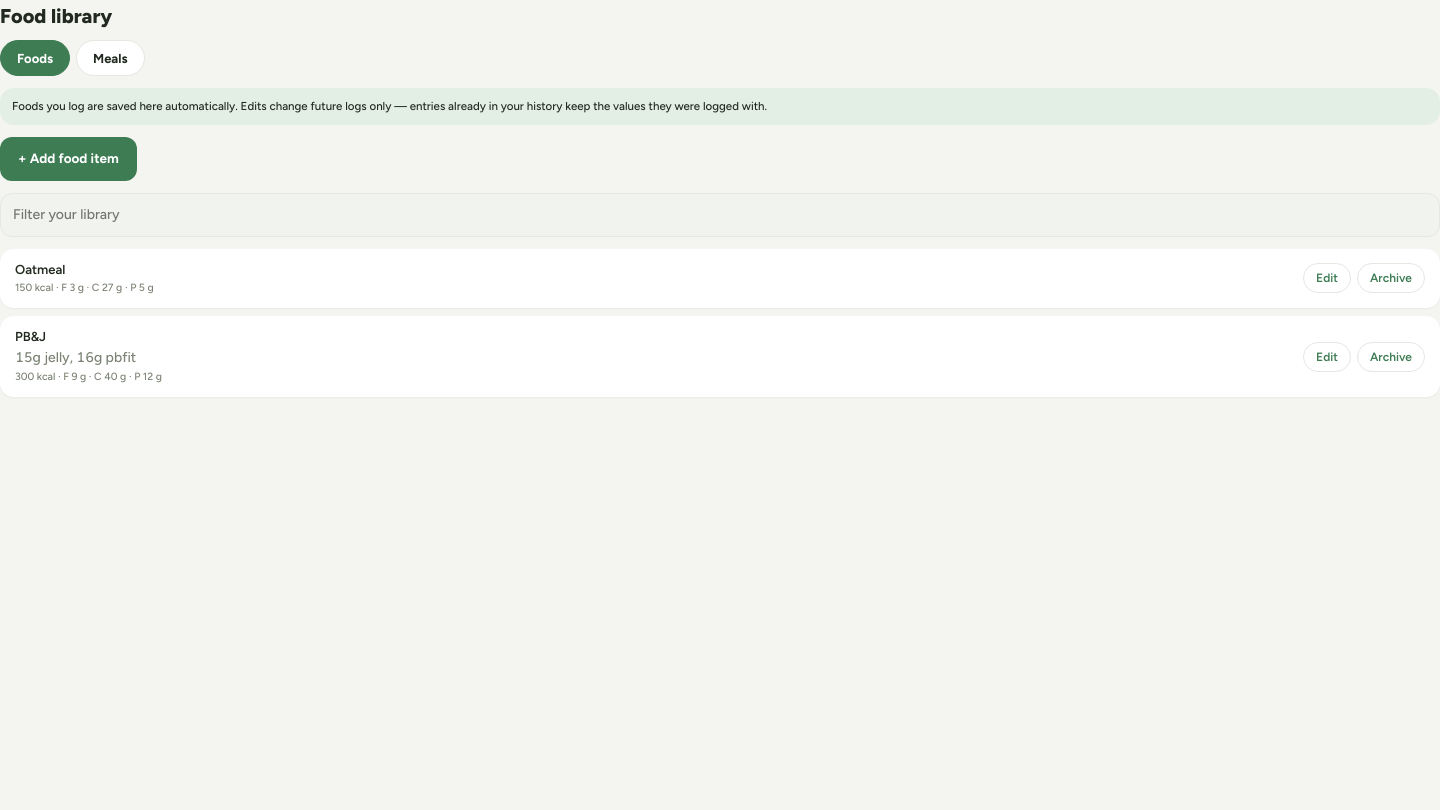
Test: FoodsScreen save as new food › rejects a fork onto another library food’s name
This screenshot has width=1440, height=810.
Click the button "Edit" in the row of "PB&J".
click(1327, 357)  # box x1=1303 y1=342 x2=1351 y2=372
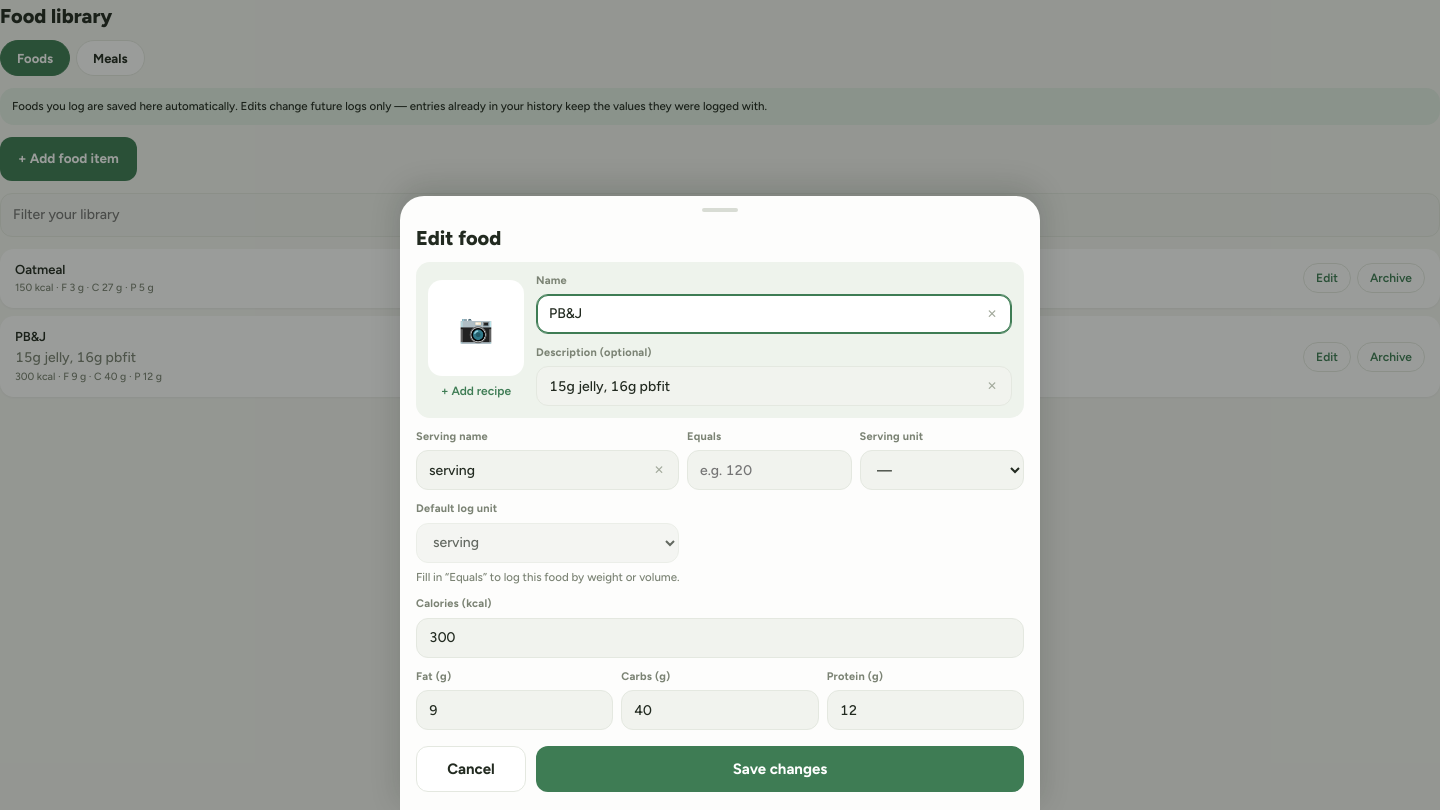
Replace the text in the field labelled "Name" with "oatmeal" at (774, 314), box x1=536 y1=294 x2=1012 y2=334
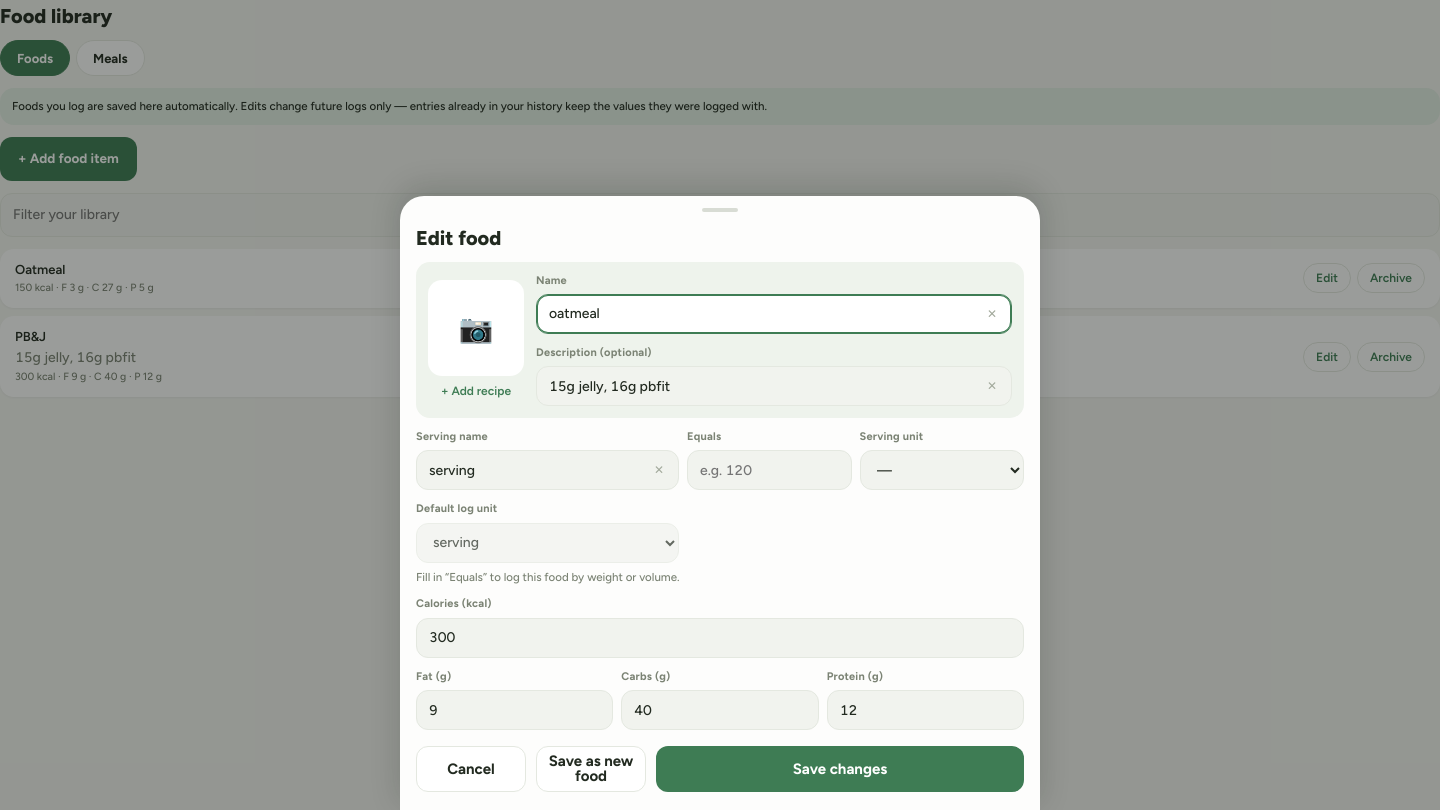
Click the button "Save as new food".
click(591, 769)  # box x1=536 y1=746 x2=646 y2=792
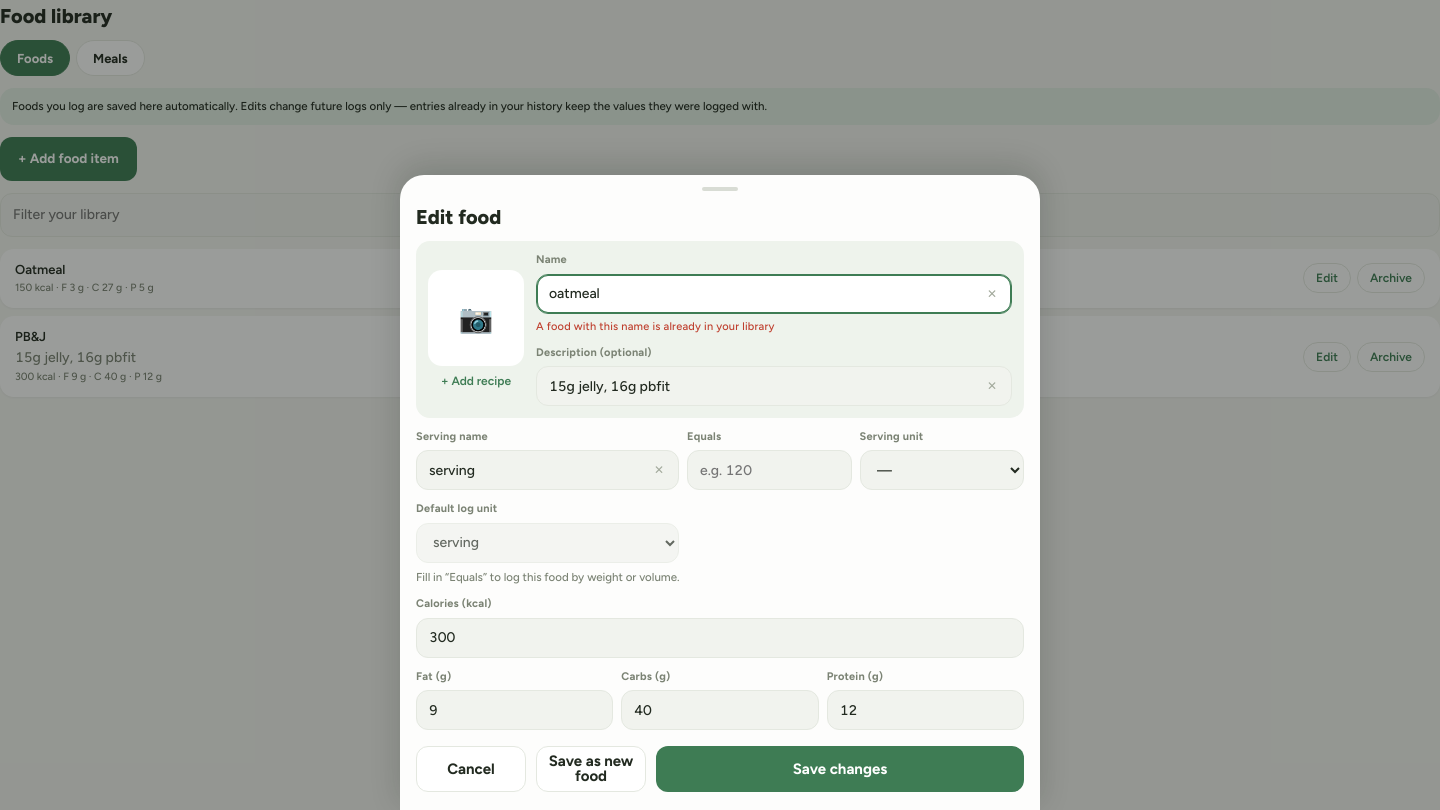
Expected: the text "A food with this name is already in your library" is shown, x1=536 y1=320 x2=775 y2=332
